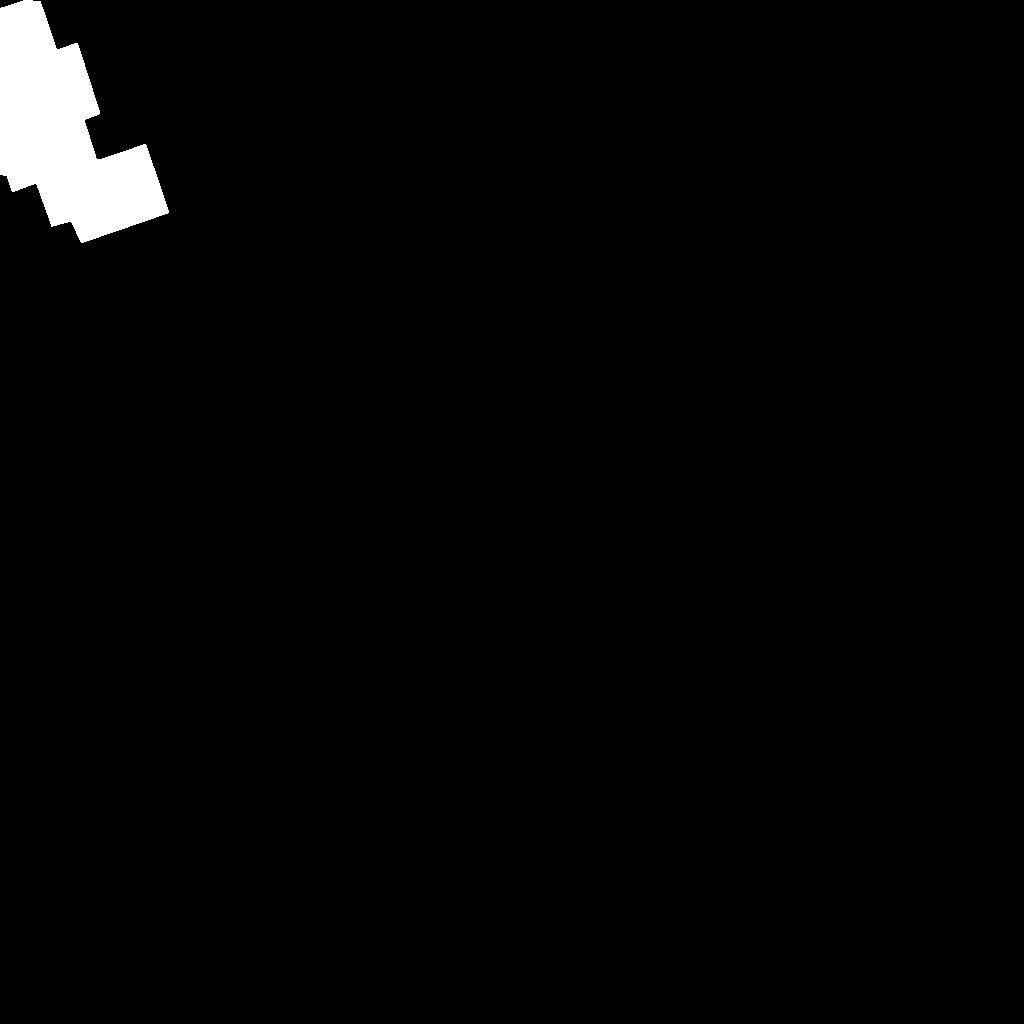building: (0, 0, 170, 244)
